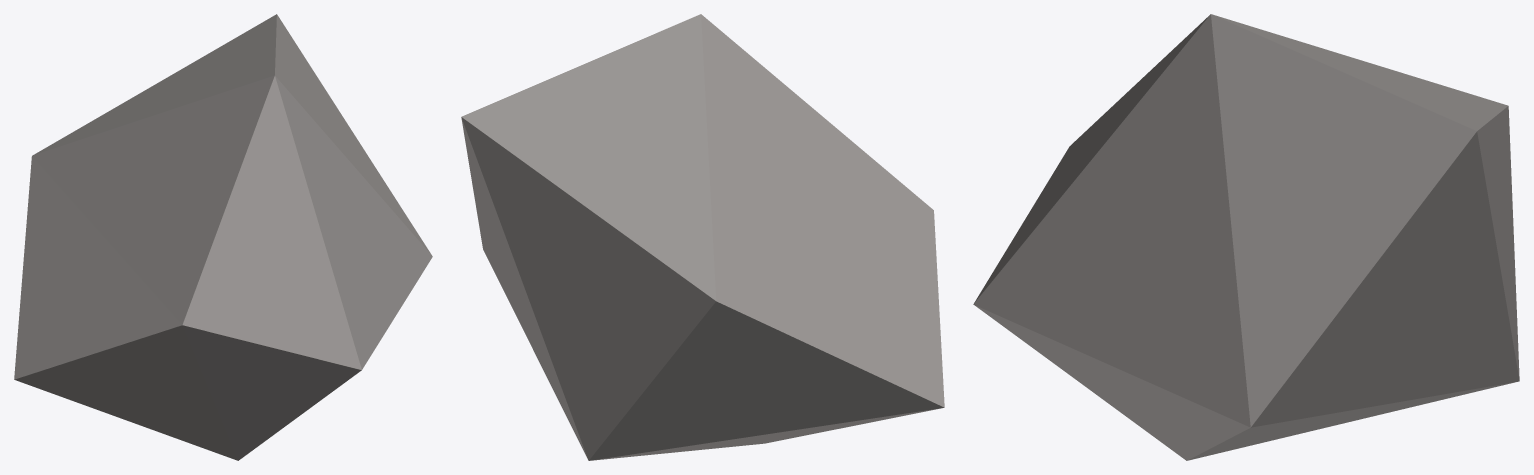
Rendered from rock2.fbx.
The picture shows the model from 3 angles, left to right: view 1: azimuth 30°, elevation 25°; view 2: azimuth 150°, elevation 25°; view 3: azimuth 270°, elevation 25°; orthographic projection. The views are drawn at different scales.
Visible parts, largest first — view 1: Cube.002; view 2: Cube.002; view 3: Cube.002.
Part boxes in pixels (box(x1,y1,x2,y2)): Cube.002: box(14, 14, 432, 460); Cube.002: box(461, 14, 944, 460); Cube.002: box(973, 14, 1519, 460).
Bounding box in the file's own units: 477 × 410 × 426.
